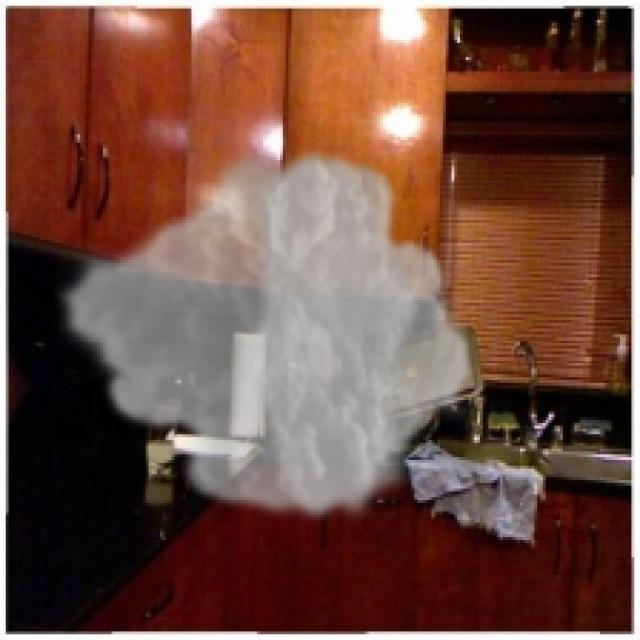Smoke: (54, 140, 477, 529)
